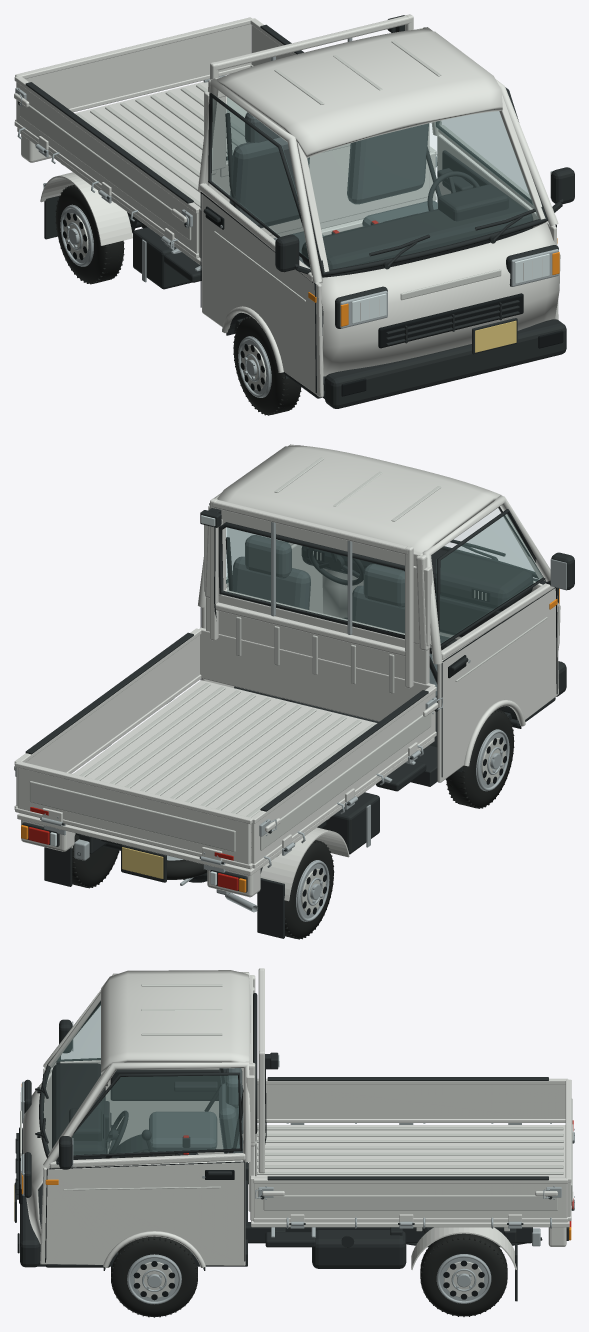
The model's file is kei_truck.glb.
The picture shows the model from 3 angles, top to bottom: view 1: azimuth 30°, elevation 25°; view 2: azimuth 150°, elevation 25°; view 3: azimuth 270°, elevation 25°; orthographic projection. The views are drawn at different scales.
Parts seen in each view (by area): view 1: BATCH_CAB_FIXED, BATCH_DOOR_LEFT_HINGE_Z, BATCH_CARGO_BED_FIXED, BATCH_SIDEGATE_LEFT_HINGE_Y, BATCH_TAILGATE_HINGE_X, BATCH_DOOR_RIGHT_DRIVER_HINGE_Z, BATCH_WHEEL_REAR_L_AXLE_X, BATCH_WHEEL_FRONT_L_AXLE_X, BATCH_CHASSIS_FIXED, BATCH_SIDEGATE_RIGHT_HINGE_Y, BATCH_STEERING_WHEEL_PIVOT; view 2: BATCH_CAB_FIXED, BATCH_CARGO_BED_FIXED, BATCH_DOOR_LEFT_HINGE_Z, BATCH_TAILGATE_HINGE_X, BATCH_SIDEGATE_LEFT_HINGE_Y, BATCH_SIDEGATE_RIGHT_HINGE_Y, BATCH_CHASSIS_FIXED, BATCH_WHEEL_FRONT_L_AXLE_X, BATCH_WHEEL_REAR_L_AXLE_X, BATCH_DOOR_RIGHT_DRIVER_HINGE_Z, BATCH_WHEEL_REAR_R_AXLE_X, BATCH_STEERING_WHEEL_PIVOT (+1 smaller); view 3: BATCH_DOOR_RIGHT_DRIVER_HINGE_Z, BATCH_CAB_FIXED, BATCH_CARGO_BED_FIXED, BATCH_SIDEGATE_RIGHT_HINGE_Y, BATCH_SIDEGATE_LEFT_HINGE_Y, BATCH_DOOR_LEFT_HINGE_Z, BATCH_WHEEL_REAR_R_AXLE_X, BATCH_WHEEL_FRONT_R_AXLE_X, BATCH_CHASSIS_FIXED, BATCH_TAILGATE_HINGE_X, BATCH_STEERING_WHEEL_PIVOT.
Part boxes in pixels (x1,y1,x2,y2): BATCH_CAB_FIXED: [204, 28, 566, 408]; BATCH_DOOR_LEFT_HINGE_Z: [198, 78, 323, 397]; BATCH_CARGO_BED_FIXED: [17, 14, 435, 282]; BATCH_SIDEGATE_LEFT_HINGE_Y: [14, 76, 200, 258]; BATCH_TAILGATE_HINGE_X: [15, 17, 253, 121]; BATCH_DOOR_RIGHT_DRIVER_HINGE_Z: [422, 27, 574, 319]; BATCH_WHEEL_REAR_L_AXLE_X: [55, 185, 124, 284]; BATCH_WHEEL_FRONT_L_AXLE_X: [233, 316, 301, 415]; BATCH_CHASSIS_FIXED: [43, 183, 362, 335]; BATCH_SIDEGATE_RIGHT_HINGE_Y: [250, 18, 437, 199]; BATCH_STEERING_WHEEL_PIVOT: [427, 171, 479, 210]; BATCH_CAB_FIXED: [204, 445, 566, 786]; BATCH_CARGO_BED_FIXED: [17, 498, 435, 938]; BATCH_DOOR_LEFT_HINGE_Z: [422, 495, 574, 782]; BATCH_TAILGATE_HINGE_X: [15, 761, 252, 869]; BATCH_SIDEGATE_LEFT_HINGE_Y: [251, 686, 442, 868]; BATCH_SIDEGATE_RIGHT_HINGE_Y: [14, 628, 201, 809]; BATCH_CHASSIS_FIXED: [74, 695, 437, 912]; BATCH_WHEEL_FRONT_L_AXLE_X: [445, 709, 514, 808]; BATCH_WHEEL_REAR_L_AXLE_X: [285, 840, 334, 939]; BATCH_DOOR_RIGHT_DRIVER_HINGE_Z: [198, 444, 322, 687]; BATCH_WHEEL_REAR_R_AXLE_X: [72, 833, 119, 888]; BATCH_STEERING_WHEEL_PIVOT: [308, 547, 364, 585]; BATCH_DOOR_RIGHT_DRIVER_HINGE_Z: [40, 1061, 251, 1265]; BATCH_CAB_FIXED: [14, 970, 257, 1270]; BATCH_CARGO_BED_FIXED: [250, 968, 573, 1301]; BATCH_SIDEGATE_RIGHT_HINGE_Y: [253, 1176, 568, 1228]; BATCH_SIDEGATE_LEFT_HINGE_Y: [257, 1077, 567, 1123]; BATCH_DOOR_LEFT_HINGE_Z: [43, 972, 249, 1154]; BATCH_WHEEL_REAR_R_AXLE_X: [420, 1233, 507, 1316]; BATCH_WHEEL_FRONT_R_AXLE_X: [111, 1236, 197, 1317]; BATCH_CHASSIS_FIXED: [111, 1156, 542, 1268]; BATCH_TAILGATE_HINGE_X: [565, 1079, 574, 1221]; BATCH_STEERING_WHEEL_PIVOT: [105, 1110, 128, 1158].
Size of the model in its own units: 1.82 by 1.76 by 3.45.
